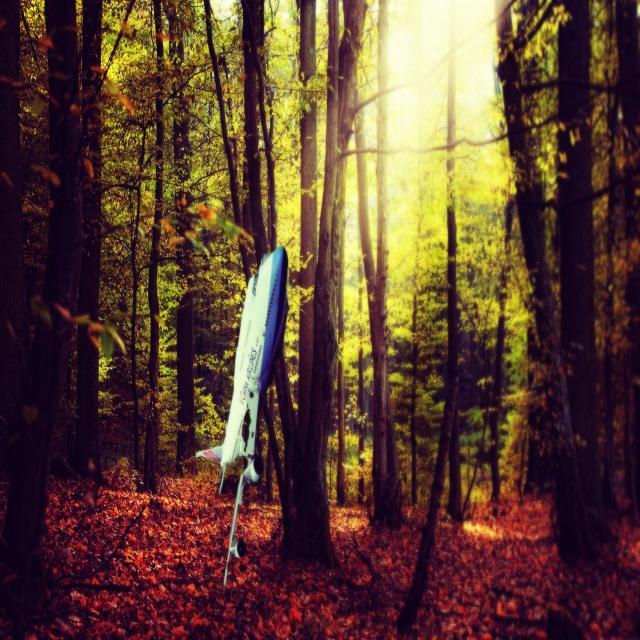airplane: (195, 244, 289, 586)
